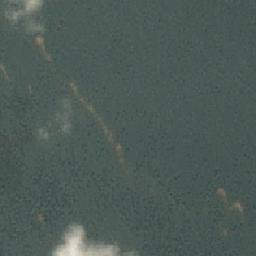cloud: (49, 219, 135, 256), (3, 1, 42, 26)
debris: (106, 127, 124, 170), (214, 187, 241, 215), (36, 35, 54, 63), (71, 81, 85, 109)
